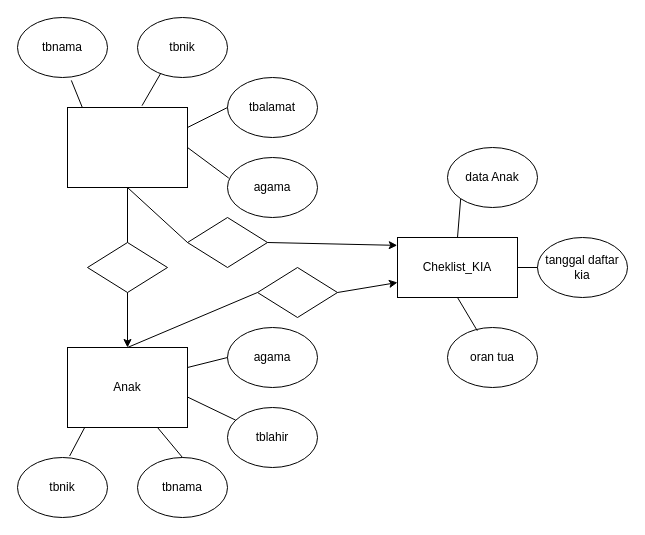
Image size: 645x535. Some labels were removed from this diagram. Each missing label, with the box of its shape:
daftar anak: (86, 242, 168, 292)
data: (256, 266, 338, 318)
mendaftarkan: (186, 216, 268, 268)
Warga: (66, 106, 188, 188)
